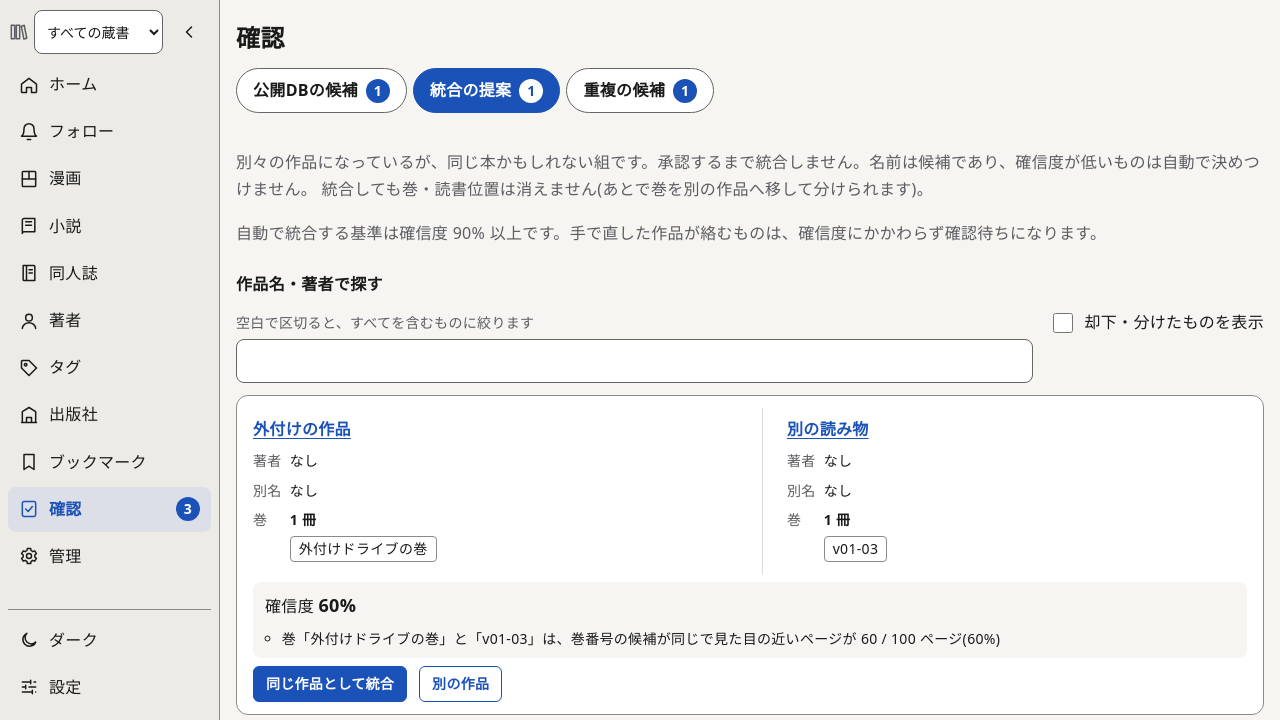
Test: 統合の提案 › 作品名・著者で絞り込める(#208)
This screenshot has width=1280, height=720.
Expected: the link "外付けの作品" is shown, [253,418,351,440]
Type "存在しない作品" into the search field labelled "作品名・著者で探す" at [635, 360], box [236,338,1034,382]
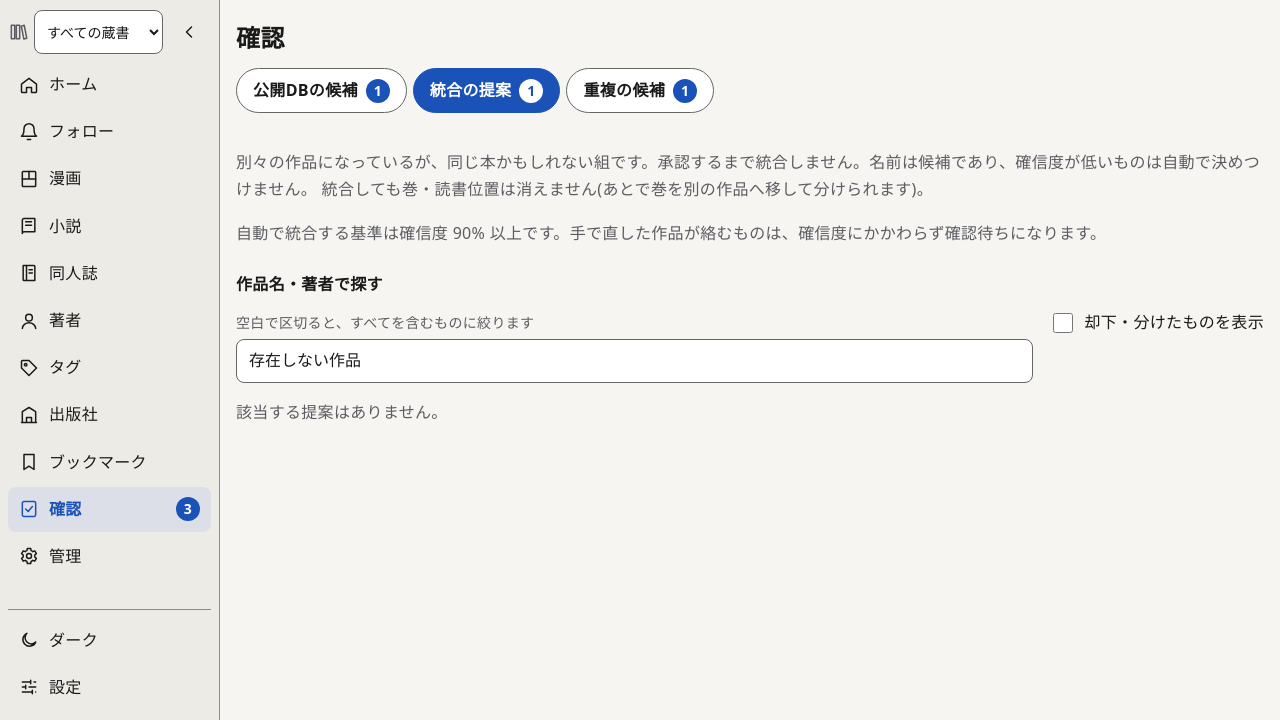
Expected: the text "該当する提案はありません。" is shown, [236,400,448,422]
Replace the text in the search field labelled "作品名・著者で探す" with "読み物" at [635, 360], box [236,338,1034,382]
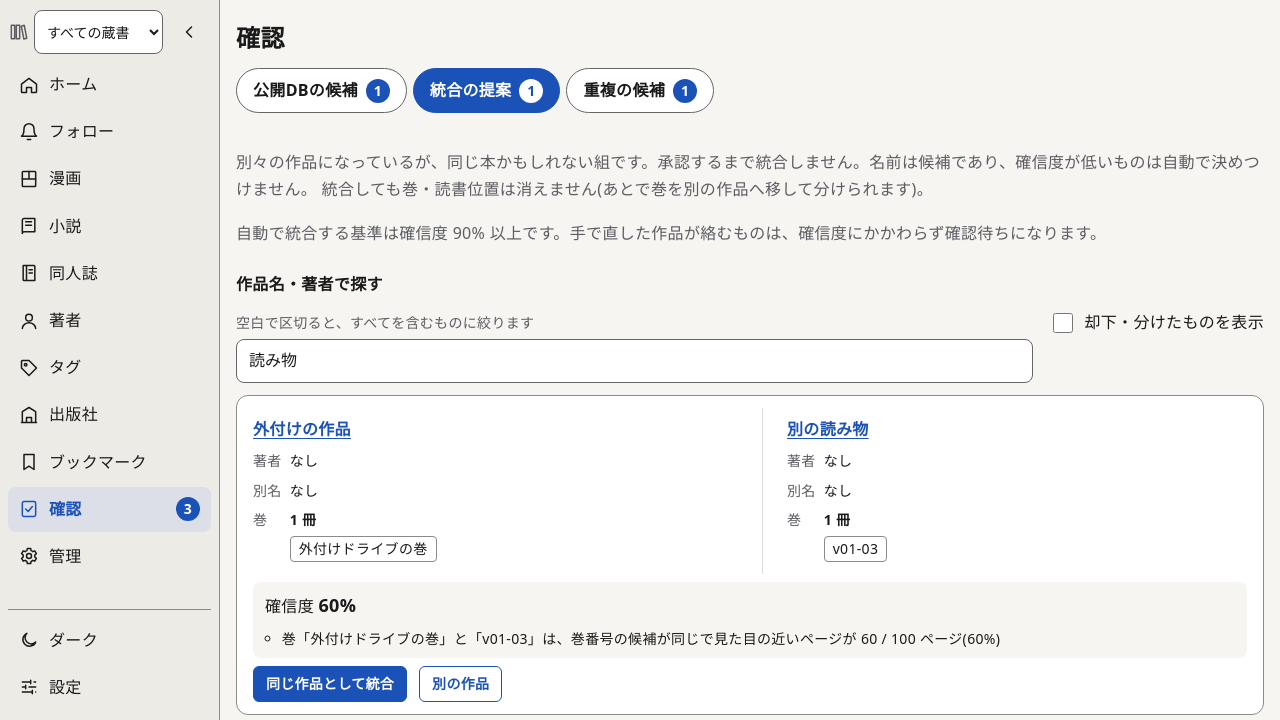
Expected: the link "外付けの作品" is shown, [253,418,351,440]
